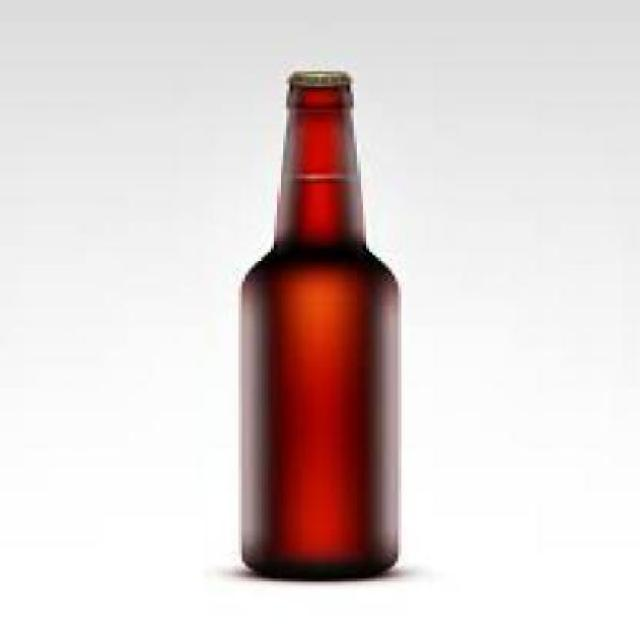kaca: (236, 77, 396, 578)
